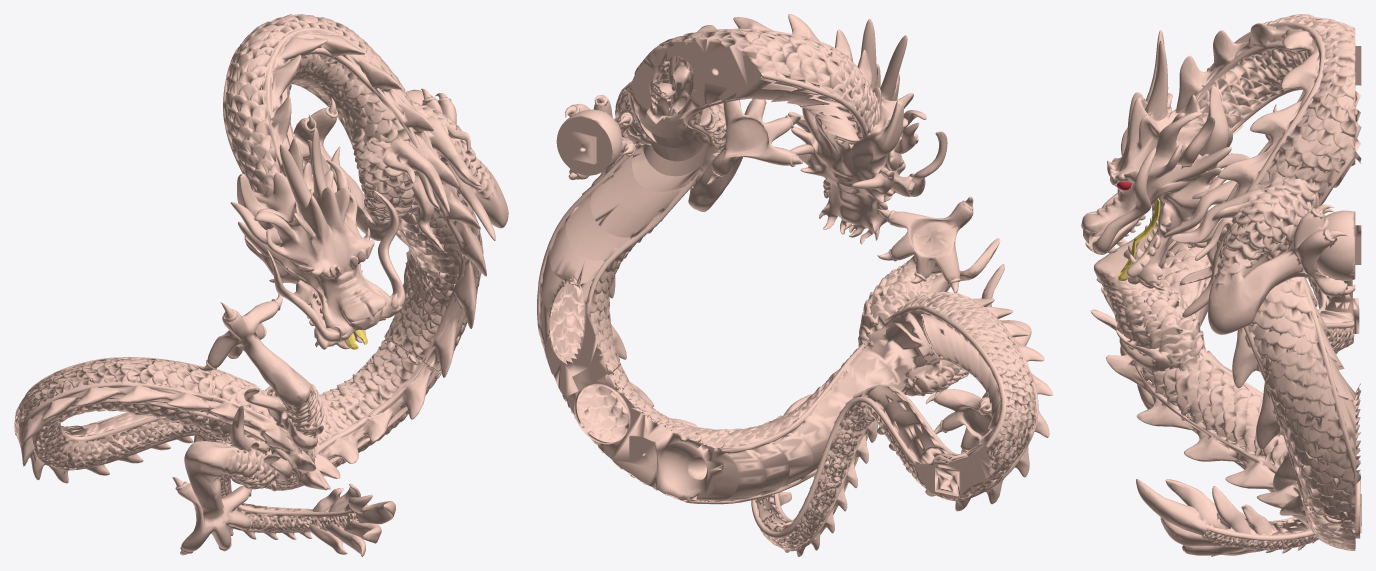
The model's file is dragon_v1_imperial_rose_gold.glb.
3 views of the same model, side by side, from view 1: azimuth 30°, elevation 25°; view 2: azimuth 150°, elevation 25°; view 3: azimuth 270°, elevation 25° (orthographic). The views are drawn at different scales.
Visible parts, largest first — view 1: dragonGeo:Original Dragon STL; view 2: dragonGeo:Original Dragon STL; view 3: dragonGeo:Original Dragon STL, dragonGeo:polySurface1.
Part boxes in pixels (x1,y1,x2,y2): dragonGeo:Original Dragon STL: (14,14,508,556); dragonGeo:Original Dragon STL: (537,14,1052,556); dragonGeo:Original Dragon STL: (1081,14,1361,556); dragonGeo:polySurface1: (1117,198,1160,280).
Size of the model in its own units: 0.0391 by 0.04 by 0.019.
